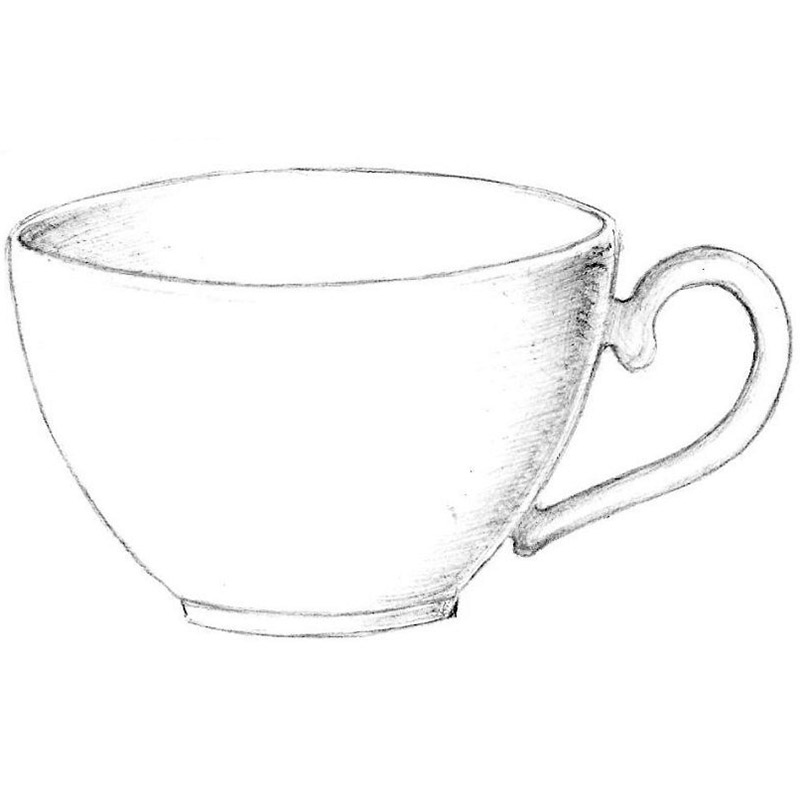cup: (6, 165, 792, 641)
